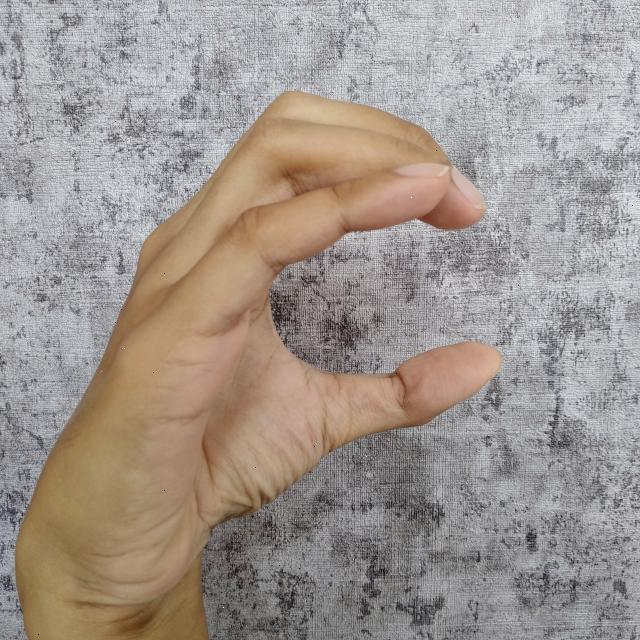C: (20, 88, 502, 640)
